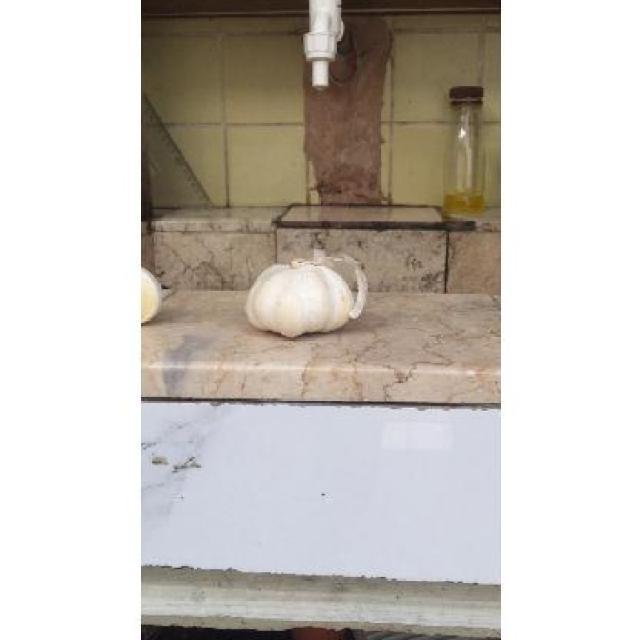garlic: (245, 250, 368, 337), (141, 268, 161, 322)
